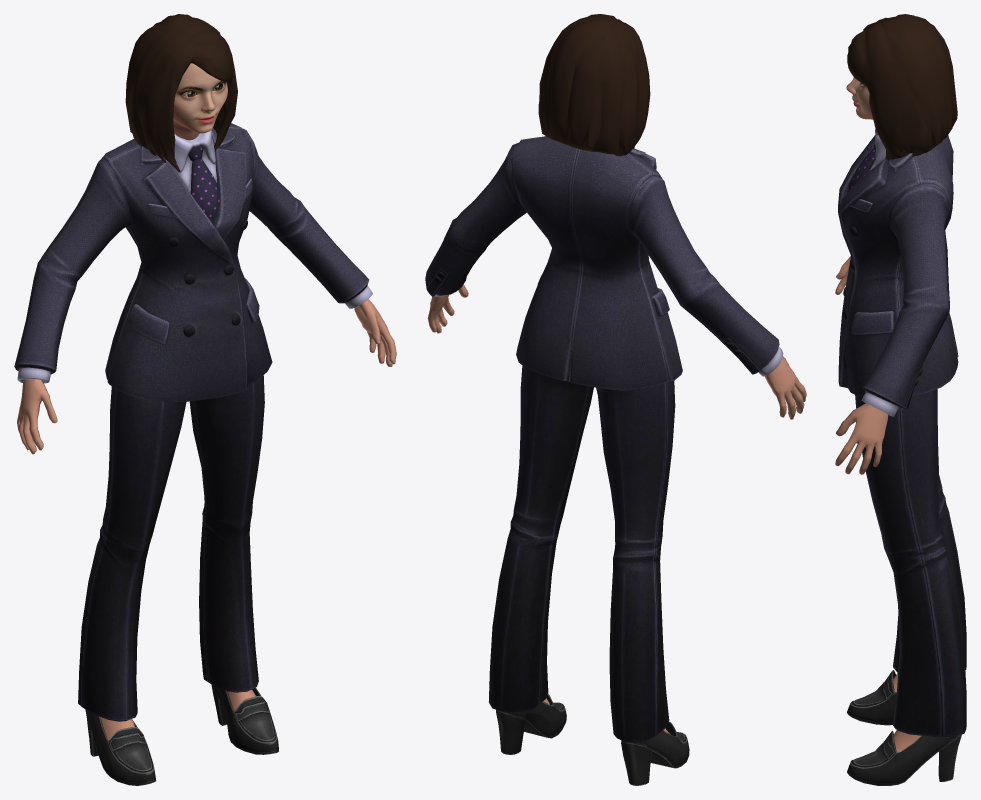
File: stylized_caucasian_female.glb
3 views of the same model, side by side, from view 1: azimuth 30°, elevation 25°; view 2: azimuth 150°, elevation 25°; view 3: azimuth 270°, elevation 25° (orthographic).
Visible parts, largest first — view 1: Wolf3D_Outfit_Top; view 2: Wolf3D_Outfit_Top; view 3: Wolf3D_Outfit_Top.
Boxes of the visible parts, x1,y1,x2,y2 form: Wolf3D_Outfit_Top: (14, 14, 396, 785); Wolf3D_Outfit_Top: (425, 14, 806, 785); Wolf3D_Outfit_Top: (835, 14, 966, 785).
Bounding box in the file's own units: 0.9279 × 1.77 × 0.2892.
8 materials, 8 textured.
